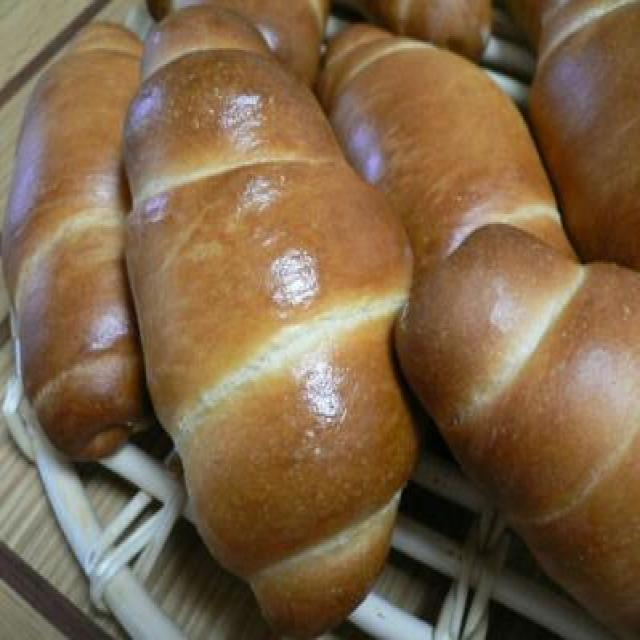面包点心: (110, 0, 418, 640)
